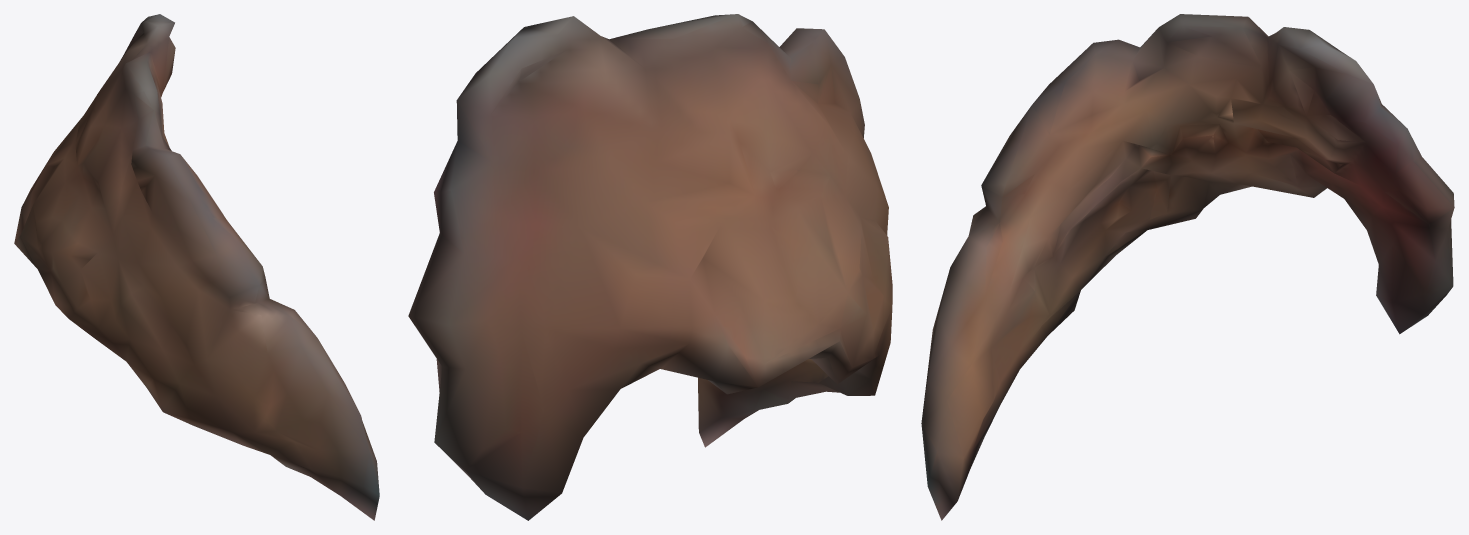
Rendered from scythe_blade.glb.
The picture shows the model from 3 angles, left to right: view 1: azimuth 30°, elevation 25°; view 2: azimuth 150°, elevation 25°; view 3: azimuth 270°, elevation 25°; orthographic projection. The views are drawn at different scales.
Parts seen in each view (by area): view 1: model; view 2: model; view 3: model.
Part boxes in pixels (x1,y1,x2,y2): model: [14, 14, 379, 520]; model: [408, 14, 892, 520]; model: [921, 14, 1454, 520].
Size of the model in its own units: 0.2081 by 0.3768 by 0.3983.
Materials: 1 (1 with a texture image).
